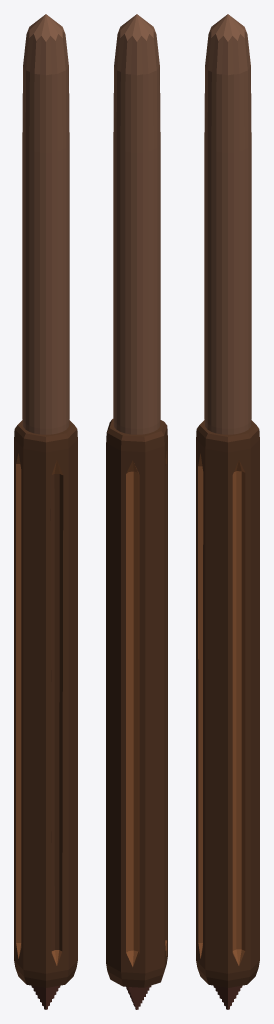
File: Wand 514.glb
3 views of the same model, side by side, from view 1: azimuth 90°, elevation 25°; view 2: azimuth 150°, elevation 25°; view 3: azimuth 270°, elevation 25° (orthographic).
Parts seen in each view (by area): view 1: GeneratedWand; view 2: GeneratedWand; view 3: GeneratedWand.
Part boxes in pixels (box(x1,y1,x2,y2)): GeneratedWand: box(14, 14, 77, 1009); GeneratedWand: box(106, 14, 167, 1009); GeneratedWand: box(196, 14, 259, 1009).
Size of the model in its own units: 0.0289 by 0.497 by 0.0289.
